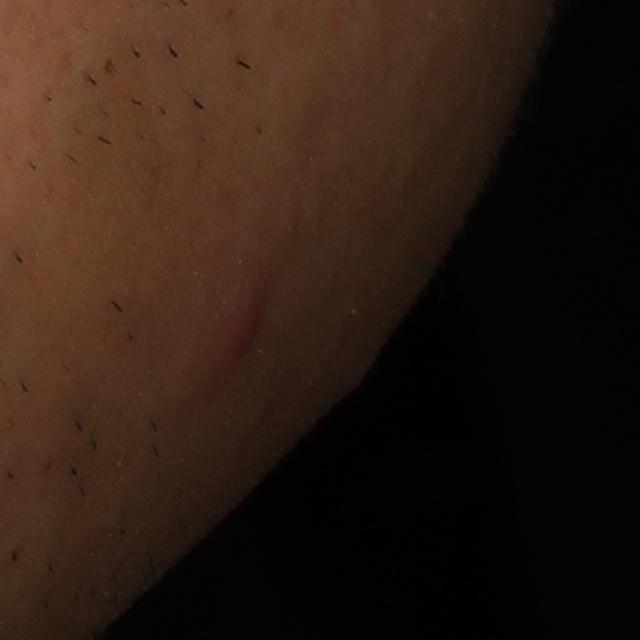papule: (217, 298, 266, 368)
